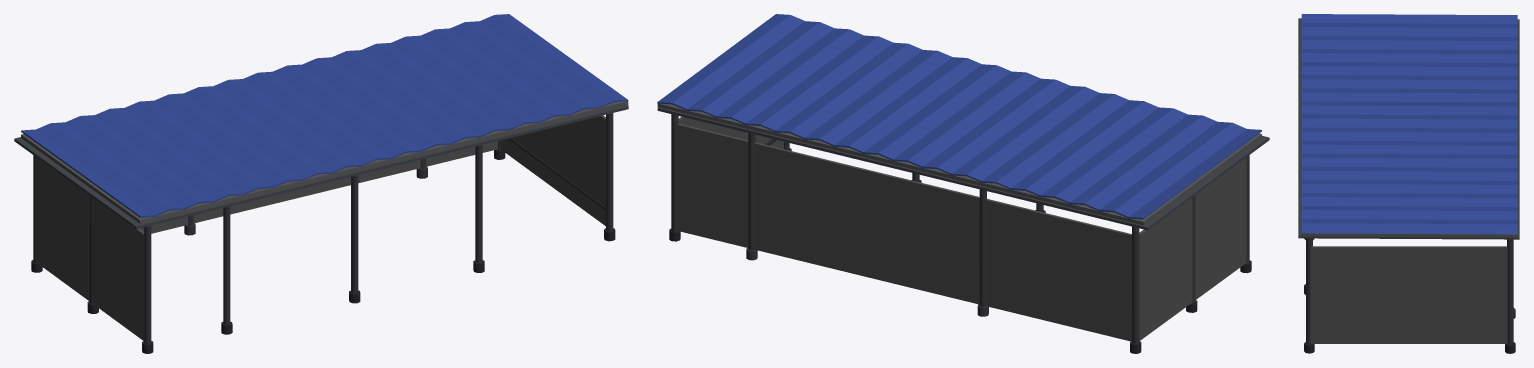
The model's file is BusGarage_2.fbx.
3 renders of one model, left to right at view 1: azimuth 30°, elevation 25°; view 2: azimuth 150°, elevation 25°; view 3: azimuth 270°, elevation 25°, orthographic. The views are drawn at different scales.
Parts seen in each view (by area): view 1: BusGarage_2; view 2: BusGarage_2; view 3: BusGarage_2.
Part boxes in pixels (x1=…): BusGarage_2: x1=14, y1=14, x2=628, y2=353; BusGarage_2: x1=657, y1=14, x2=1269, y2=353; BusGarage_2: x1=1298, y1=14, x2=1519, y2=353.
Bounding box in the file's own units: 1941 × 531 × 831.
